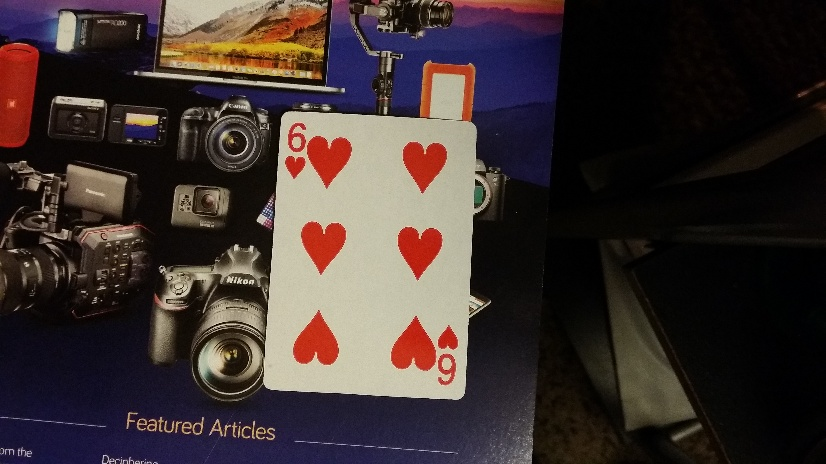H6: (438, 323, 463, 389), (285, 120, 308, 180)
